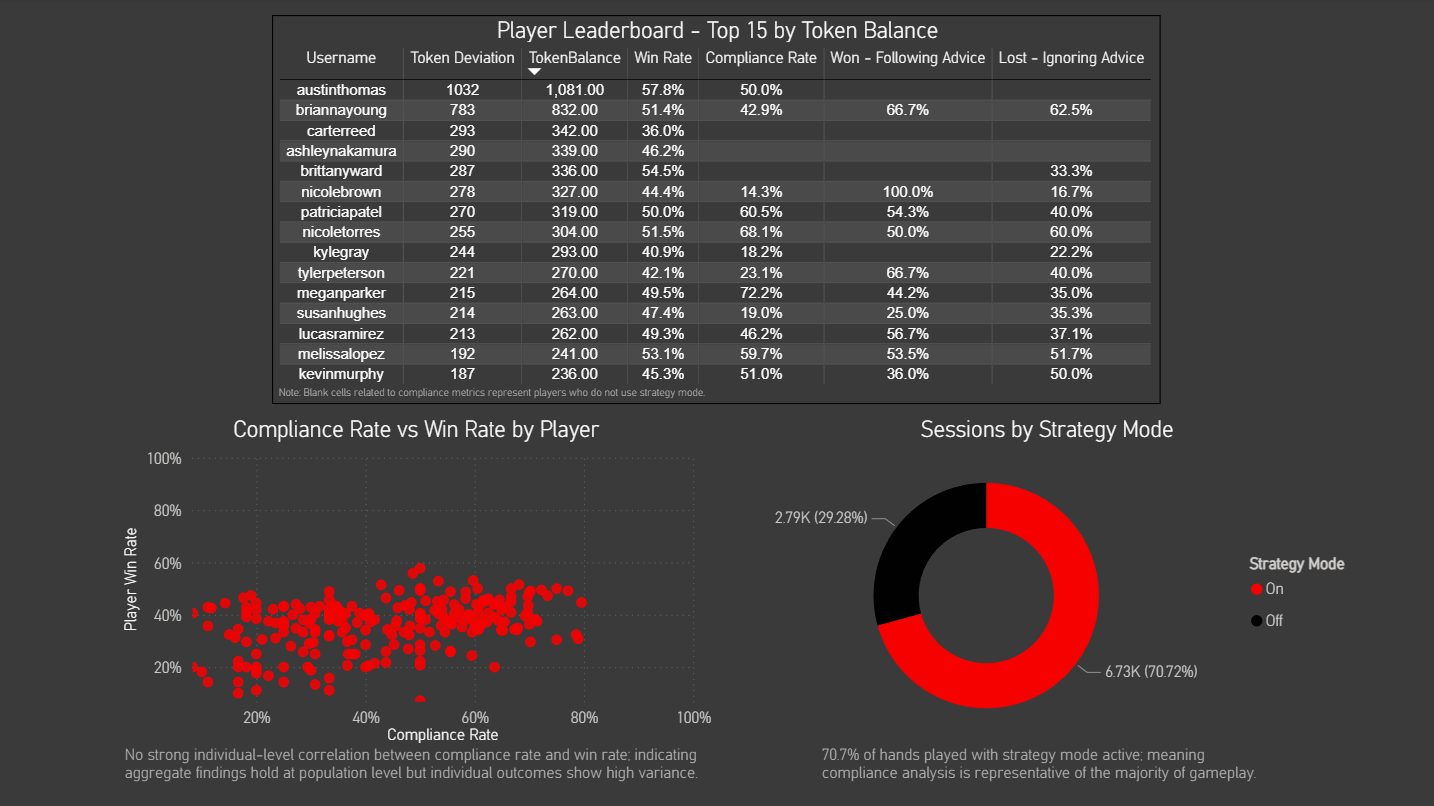

This screenshot's page, from the dashboard's own definition file:
{"tool":"powerbi","page":{"name":"Player Intelligence","canvas":[1280,720],"ordinal":3},"visuals":[{"type":"tableEx","title":"Player Leaderboard - Top 15 by Token Balance","fields":{"Values":["Players.Username","select","Players.Token Deviation","Players.TokenBalance","GameSessions.Player Win Rate","GameSessions.Compliance Rate","GameSessions.Win Rate Followed","GameSessions.Win Rate Ignored"]},"box":[245,15,788.3,345],"z":0},{"type":"scatterChart","title":"Compliance Rate vs Win Rate by Player","fields":{"Category":["Players.Username"],"X":["GameSessions.Compliance Rate"],"Y":["GameSessions.Player Win Rate"]},"box":[106.4,370.9,532.7,295.5],"z":1},{"type":"donutChart","title":"Sessions by Strategy Mode","fields":{"Category":["GameSessions.StrategyMode"],"Y":["CountNonNull(GameSessions.RecordID)"]},"box":[639.1,370.9,585.5,295.5],"z":2},{"type":"textbox","box":[245.5,336.4,388.2,24.5],"z":3},{"type":"textbox","box":[109.1,658.2,527.3,54.5],"z":4},{"type":"textbox","box":[727.3,658.2,409.1,50.9],"z":5}]}

Visuals, with their boxes in screenshot pixels (x1, y1, x2, y2), scaled from the page's 1280x720 canvas onto the 1434x806 screenshot:
"Player Leaderboard - Top 15 by Token Balance" tableEx: [274,17,1158,403]
"Compliance Rate vs Win Rate by Player" scatterChart: [119,415,716,746]
"Sessions by Strategy Mode" donutChart: [716,415,1372,746]
textbox: [275,377,710,404]
textbox: [122,737,713,798]
textbox: [815,737,1273,794]
